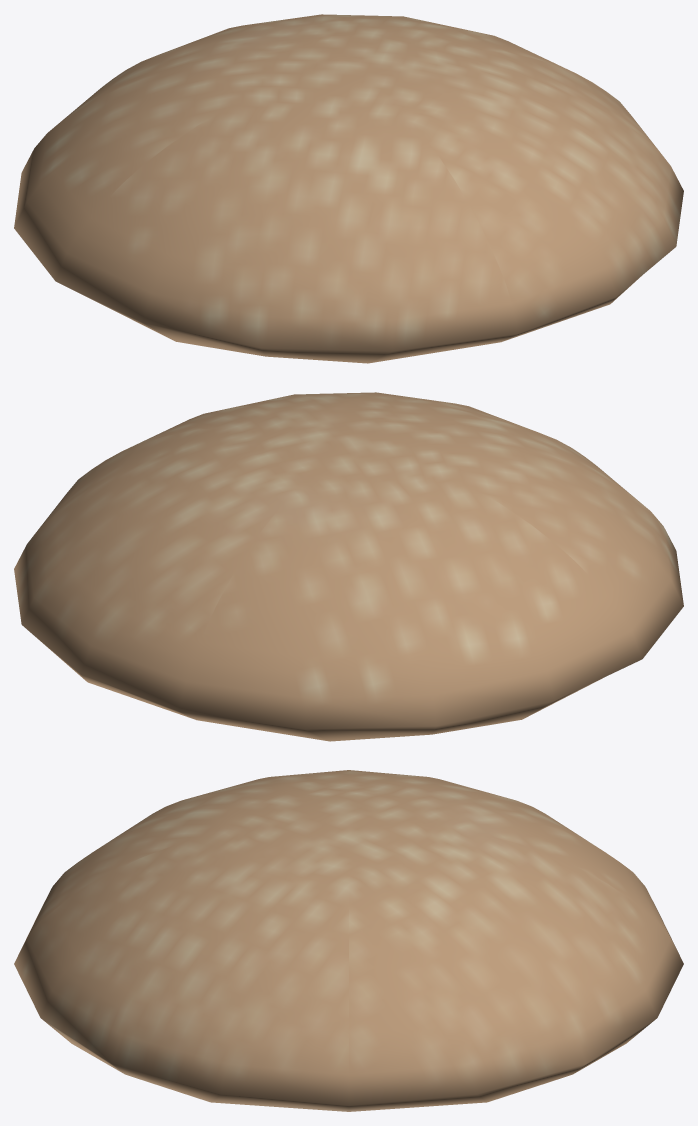
Rendered from RecipeBun_top_v05.obj.
3 renders of one model, top to bottom at view 1: azimuth 30°, elevation 25°; view 2: azimuth 150°, elevation 25°; view 3: azimuth 270°, elevation 25°, orthographic.
Visible parts, largest first — view 1: Recipebun_top_v05; view 2: Recipebun_top_v05; view 3: Recipebun_top_v05.
Part boxes in pixels (x1,y1,x2,y2): Recipebun_top_v05: (14, 14, 683, 363); Recipebun_top_v05: (14, 392, 683, 741); Recipebun_top_v05: (14, 770, 683, 1111).
Size of the model in its own units: 27.65 by 7.73 by 27.65.
